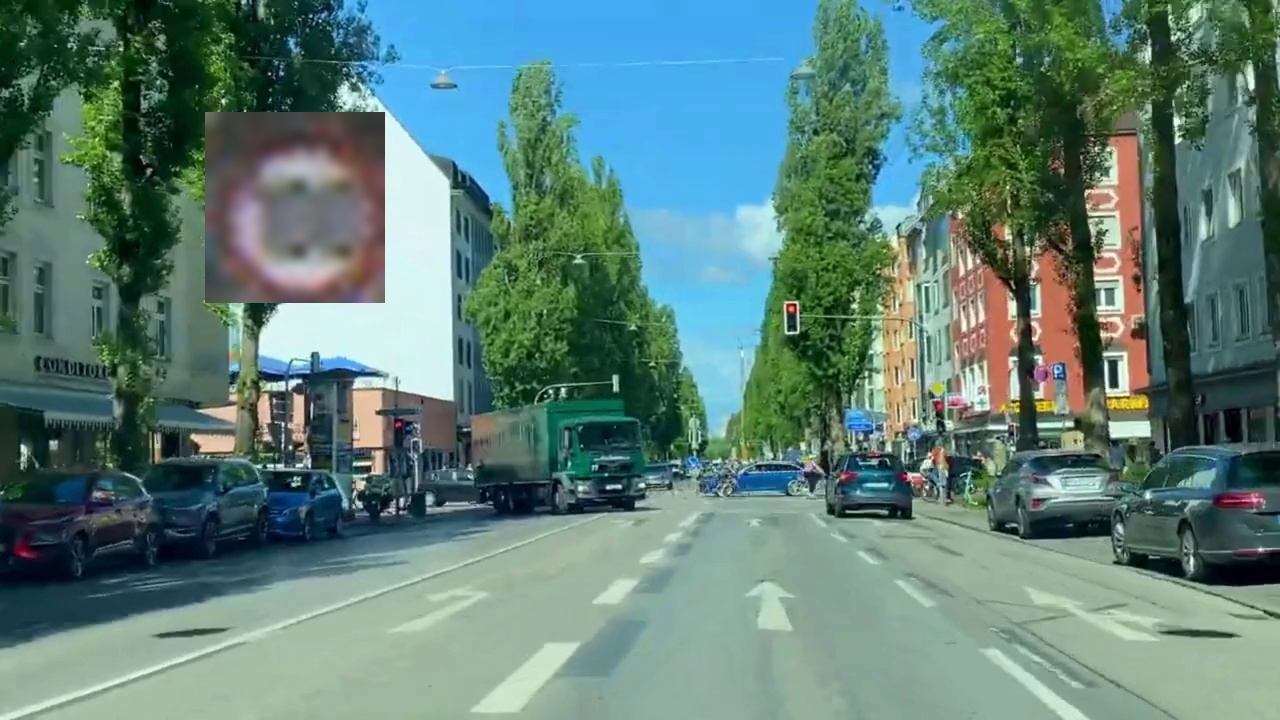Speed 100: (205, 112, 385, 303)
